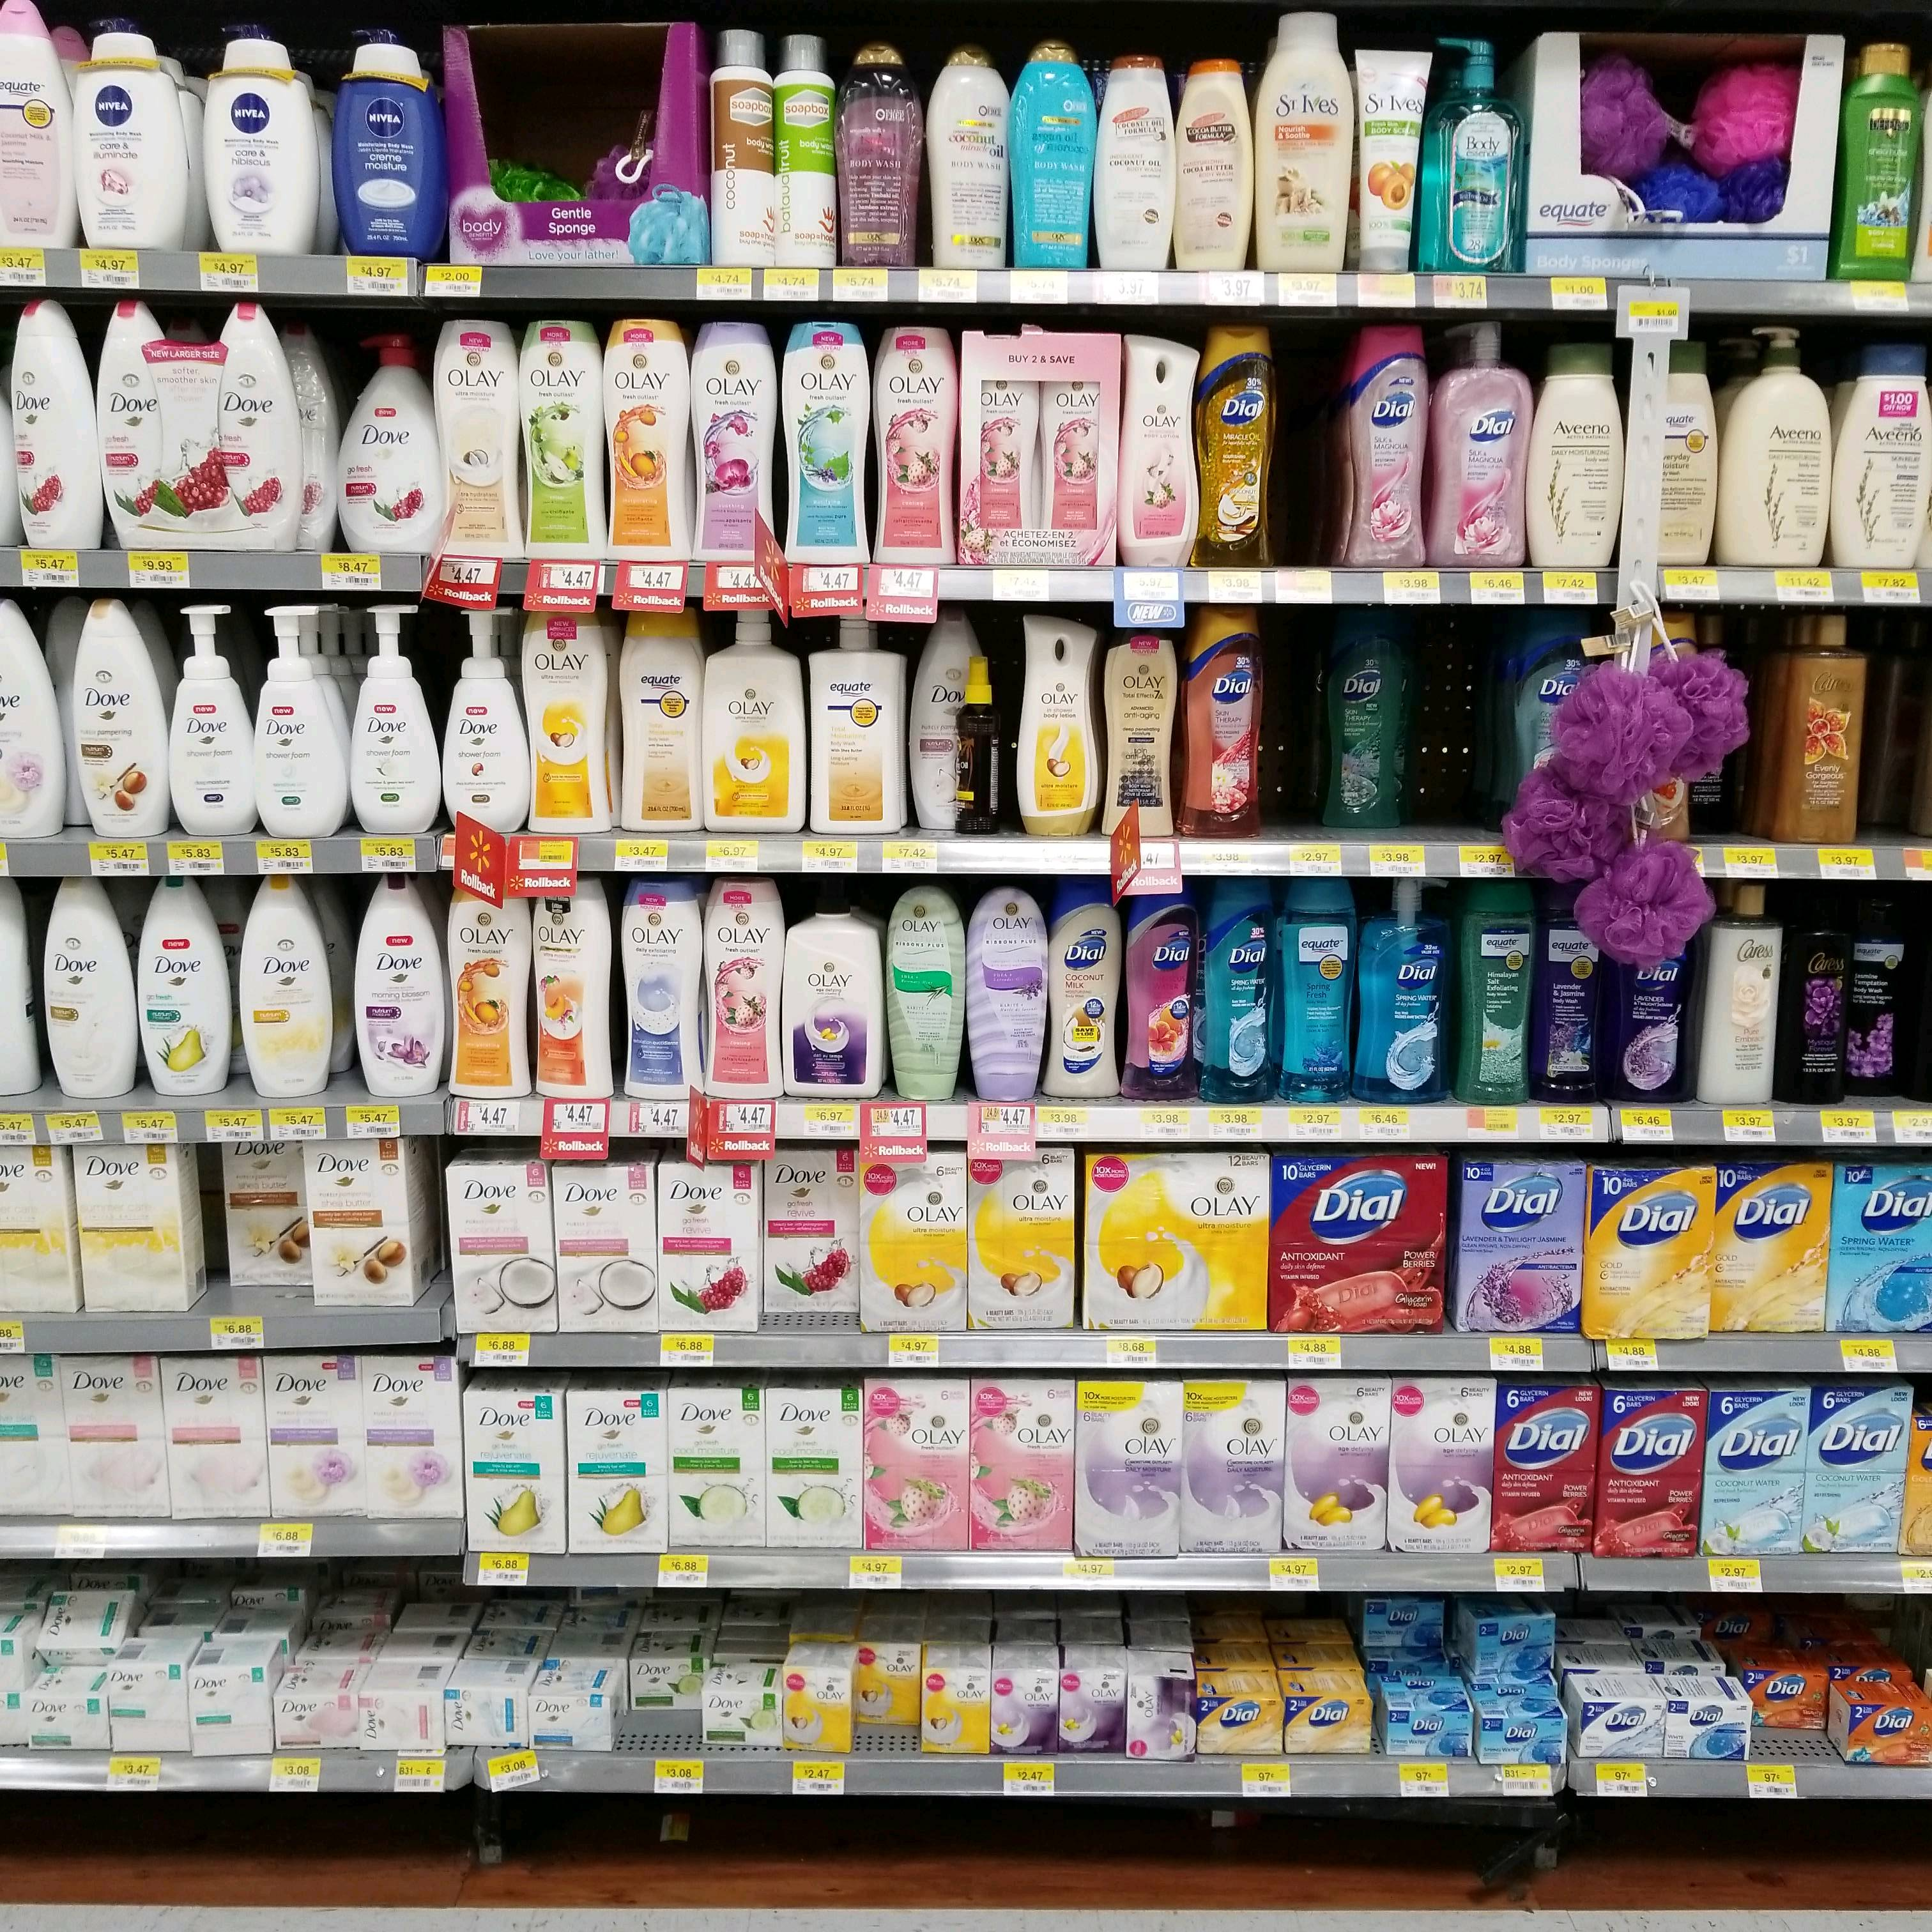Misplacement: (759, 1146, 865, 1330)
